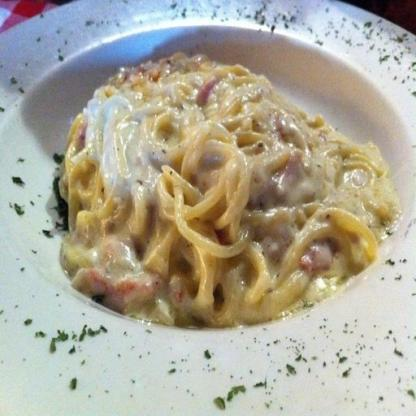pasta: (58, 51, 388, 307)
